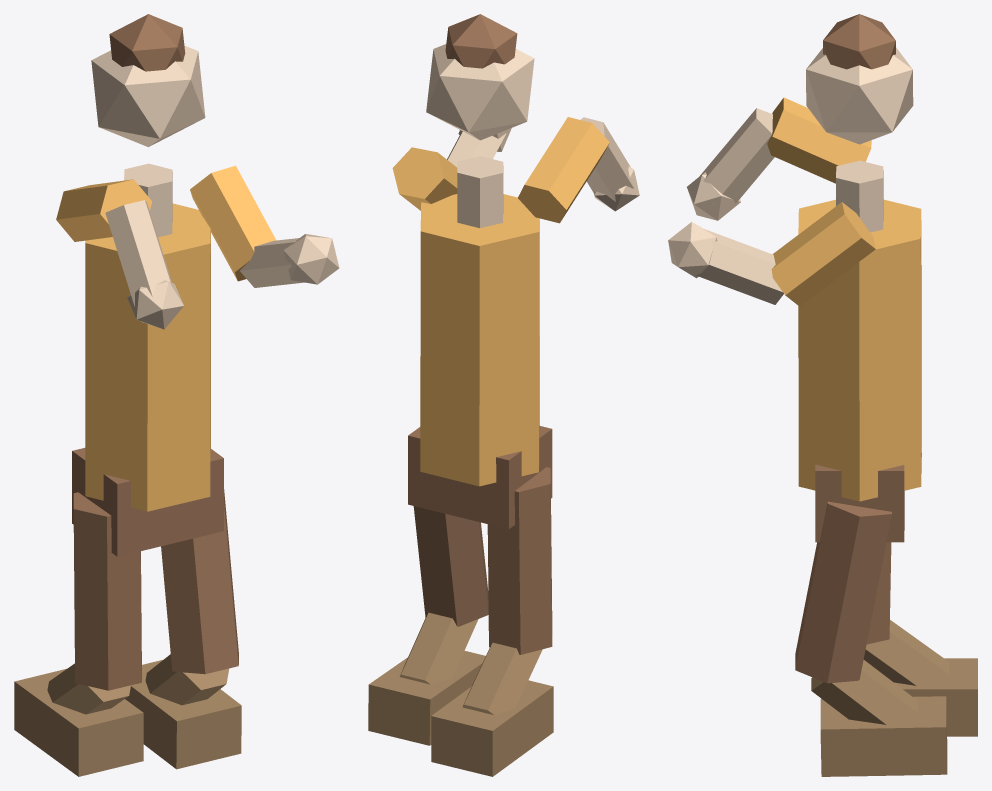
The model's file is pose_attack_1_28.glb.
3 views of the same model, side by side, from view 1: azimuth 30°, elevation 25°; view 2: azimuth 150°, elevation 25°; view 3: azimuth 270°, elevation 25° (orthographic). The views are drawn at different scales.
Visible parts, largest first — view 1: pose; view 2: pose; view 3: pose.
Boxes of the visible parts, bbox=[...] form: pose: bbox=[14, 14, 339, 776]; pose: bbox=[368, 14, 639, 776]; pose: bbox=[668, 14, 977, 776].
Size of the model in its own units: 0.4164 by 1.53 by 0.5914.
